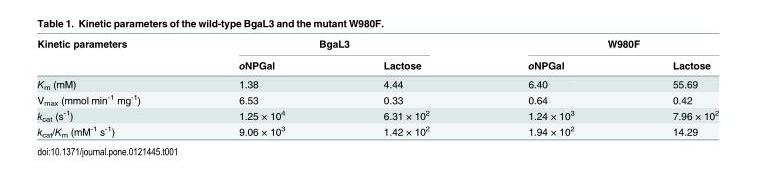table: (36, 37, 718, 137)
table column: (36, 37, 189, 137), (333, 37, 478, 137), (189, 37, 333, 137), (478, 37, 622, 137), (622, 37, 718, 137)
table column header: (36, 37, 718, 74)
table row: (36, 53, 718, 74), (36, 74, 718, 91), (36, 37, 718, 53), (36, 91, 718, 107), (36, 107, 718, 123), (36, 123, 718, 137)
table spanning cell: (36, 37, 189, 74), (189, 37, 478, 53), (478, 37, 718, 53)
